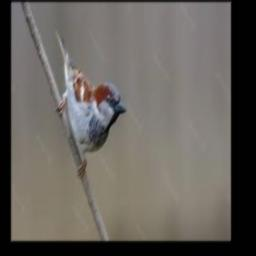Sparrow: (55, 30, 126, 178)
